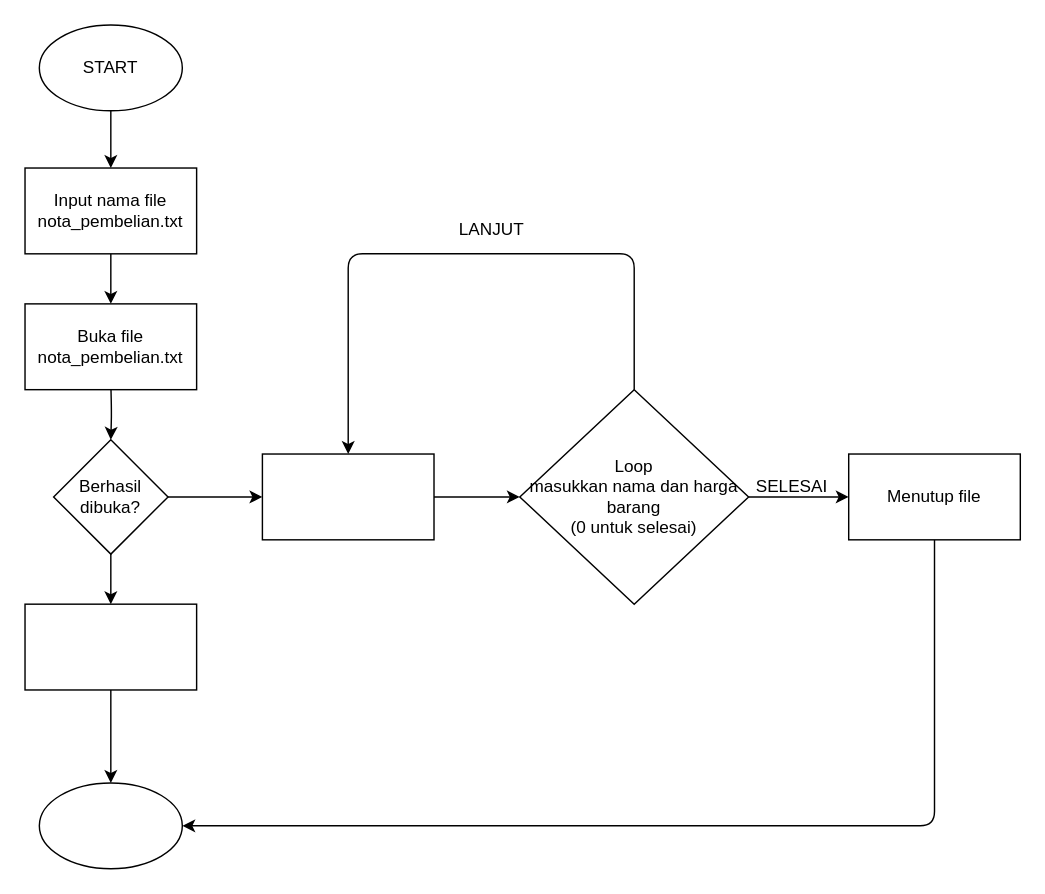
Image size: 1045x894. Some labels were removed from this diagram. Here are the shapes that lost their labels. From the top down, the box of each, then its label:
(261, 453, 434, 540): Write data ke file nota_pembelian.txt
(24, 603, 197, 690): ERROR tampil pesan error
(38, 781, 182, 869): END
